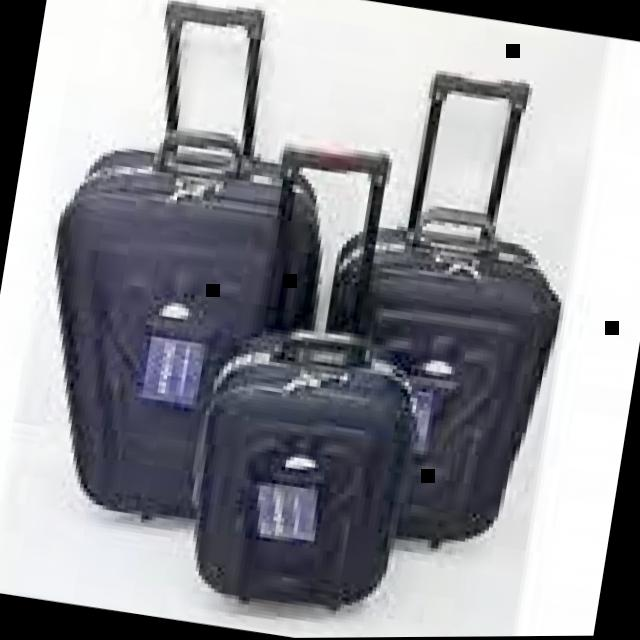luggage: (8, 106, 346, 559), (286, 187, 574, 566), (173, 305, 434, 627)
